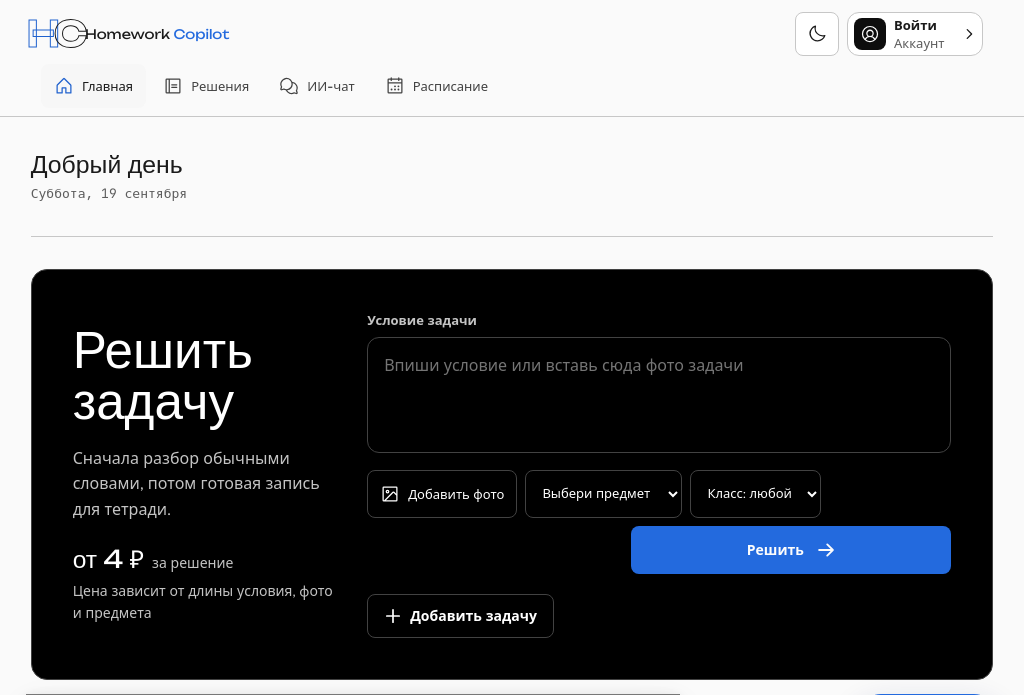
Test: Homework Copilot task flow › не отправляет задачу без условия и без фото, а объясняет причину
The width and height of the screenshot is (1024, 695).
Click the button "Решить" at (791, 550), box [631,526,951,574]
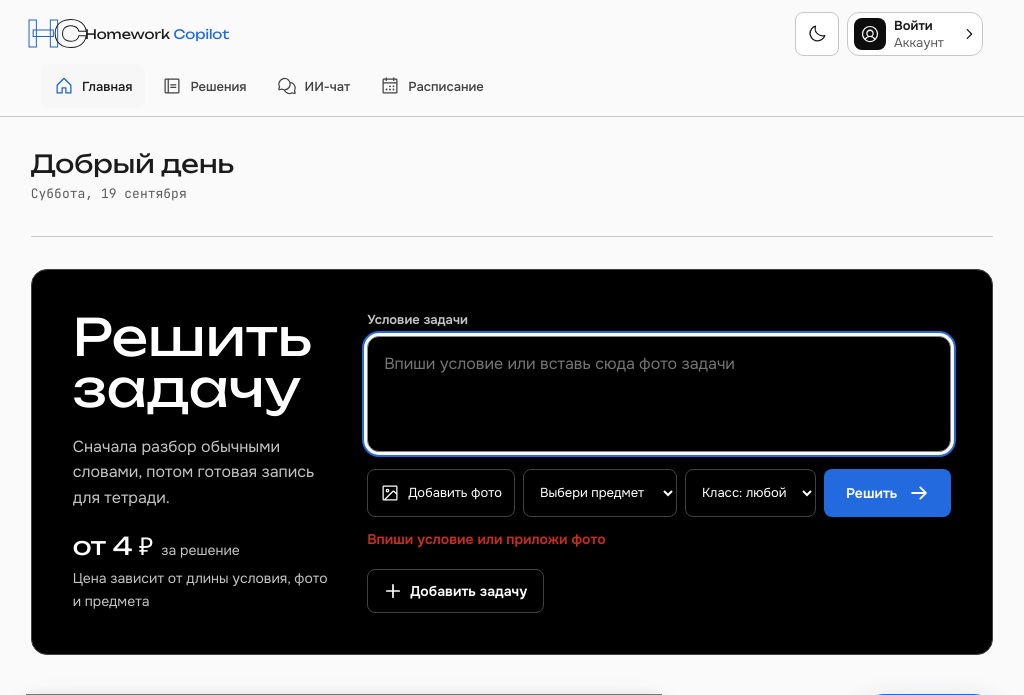
Now the message reads "Впиши условие или приложи фото", box [367,530,606,548]
